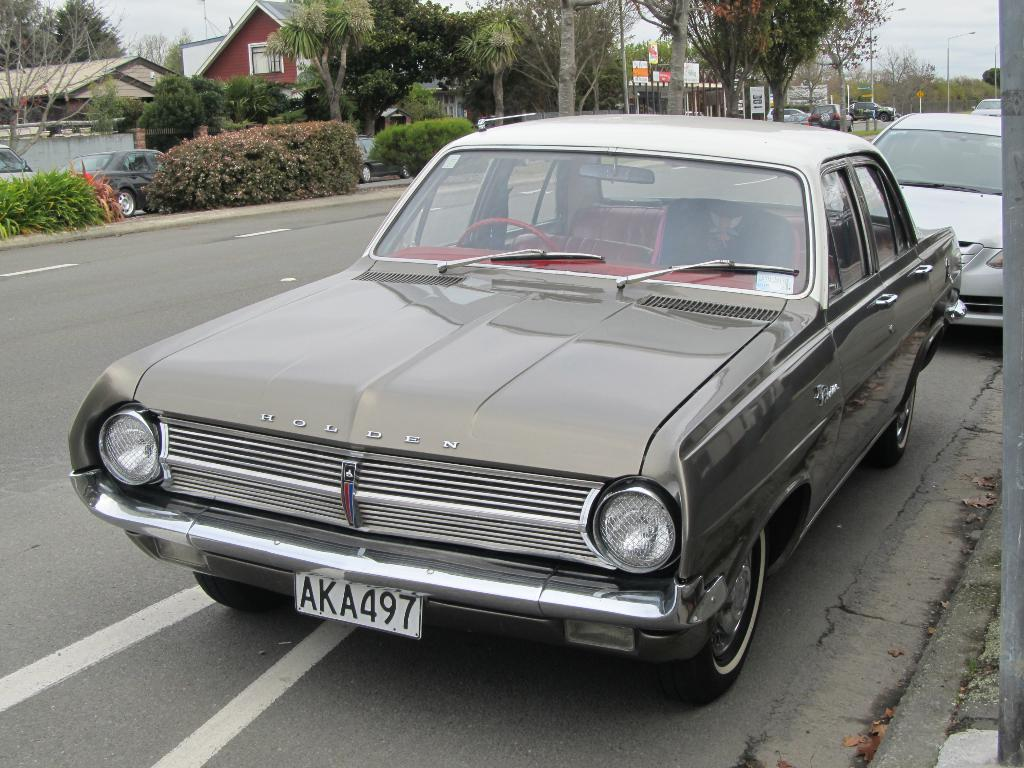Car: (69, 115, 969, 698), (825, 119, 1023, 341), (56, 145, 180, 216), (0, 136, 42, 187), (969, 95, 1011, 119), (848, 99, 897, 119), (764, 108, 814, 124)
